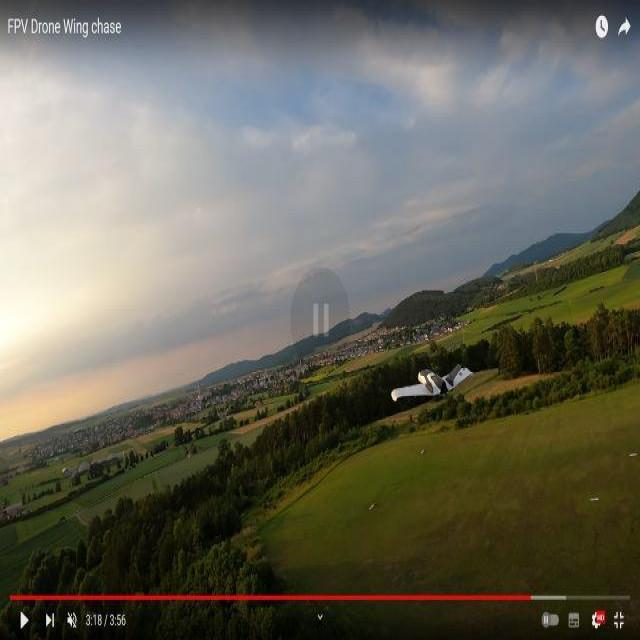iha: (420, 363, 444, 402)
